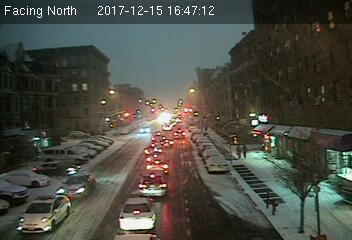car: (117, 195, 158, 232), (58, 173, 98, 199), (138, 173, 168, 197), (144, 158, 172, 173), (205, 156, 230, 172), (173, 128, 186, 140), (159, 139, 174, 148)
pedestrian: (241, 143, 249, 159), (236, 143, 242, 161)
police: (18, 192, 70, 234)
